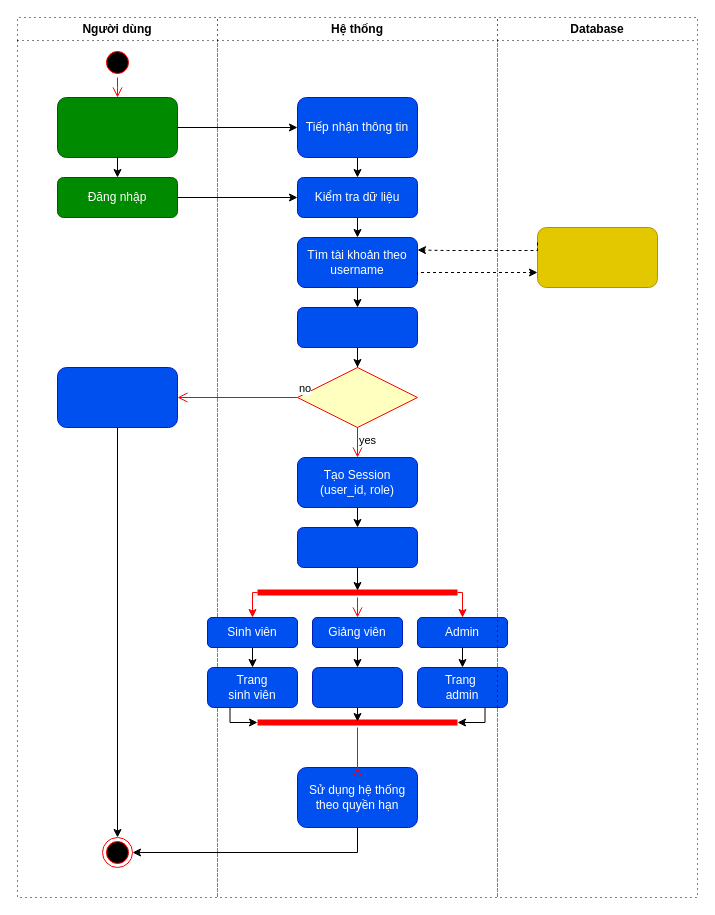
Image size: 715x915. Some labels were removed from this diagram. Here are the shapes that lost their labels. From the top down, the centre of each, then its label:
the point at 117,127: Nhập username, password
the point at 597,257: SELECT * FROM Accounts WHERE username = ?
the point at 357,327: password_verify()
the point at 117,397: Thông báo sai tài khoản hoặc mật khẩu
the point at 357,397: Đúng thông tin
the point at 357,547: Xác định quyền
the point at 357,687: Trang giảng viên
